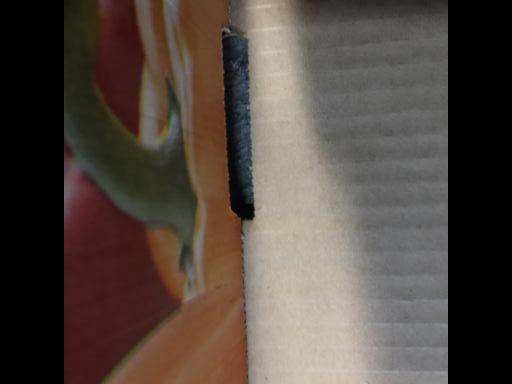cardboard: (0, 4, 447, 383)
